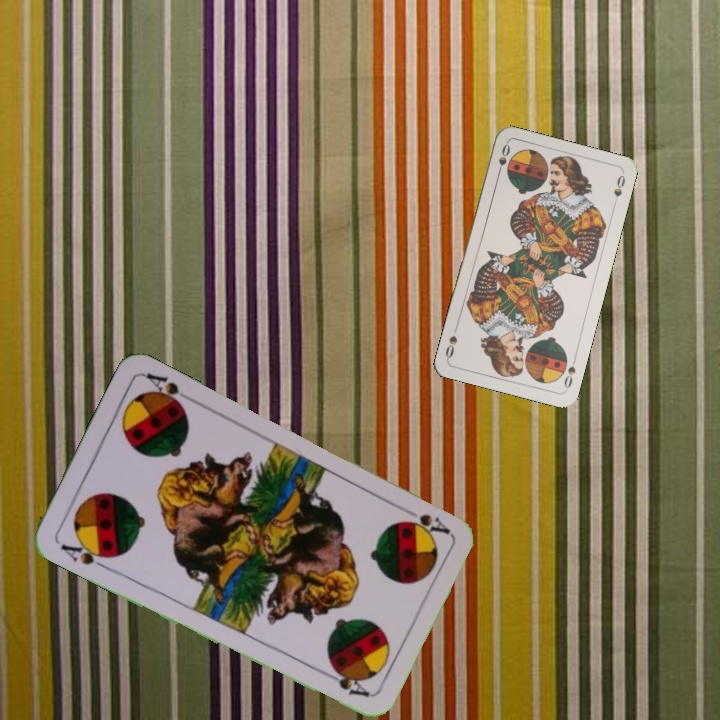SA: (56, 535, 114, 572), (398, 503, 454, 540)
SO: (493, 140, 513, 180), (560, 353, 579, 393)
